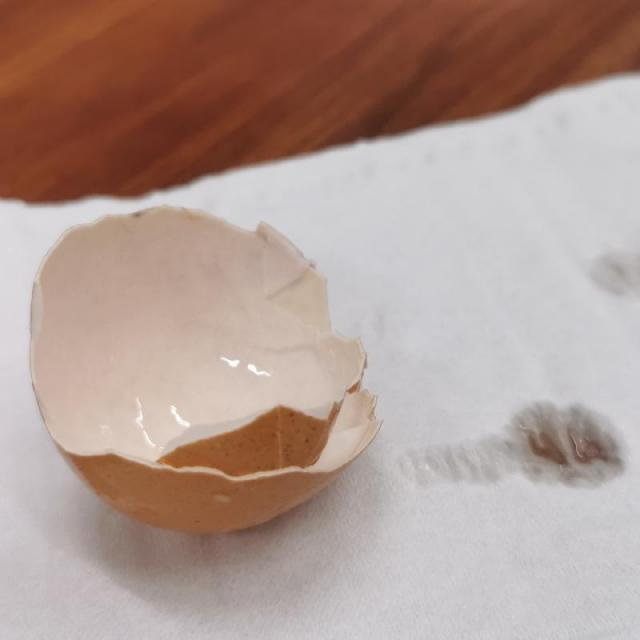egg shell: (23, 206, 380, 534)
